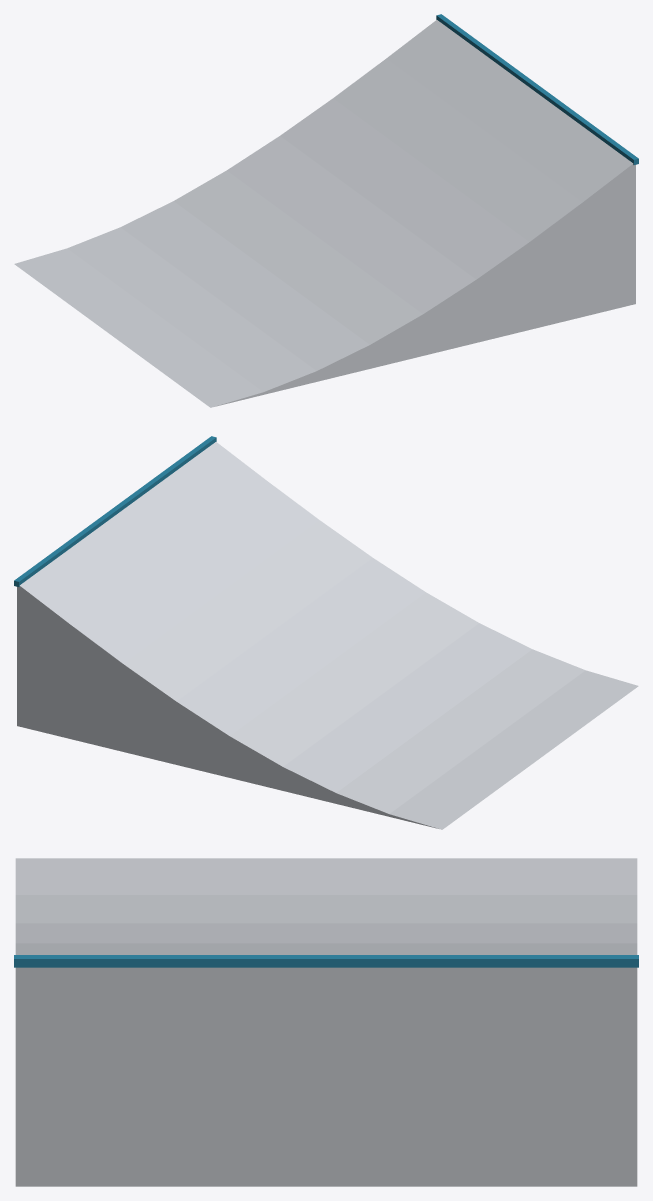
The model's file is kicker.glb.
The picture shows the model from 3 angles, top to bottom: view 1: azimuth 30°, elevation 25°; view 2: azimuth 150°, elevation 25°; view 3: azimuth 270°, elevation 25°; orthographic projection. The views are drawn at different scales.
Parts seen in each view (by area): view 1: kicker; view 2: kicker; view 3: kicker.
Boxes of the visible parts, x1,y1,x2,y2 form: kicker: [14, 14, 638, 407]; kicker: [14, 436, 638, 829]; kicker: [14, 858, 638, 1186].
Size of the model in its own units: 5.03 by 1.63 by 4.02.
